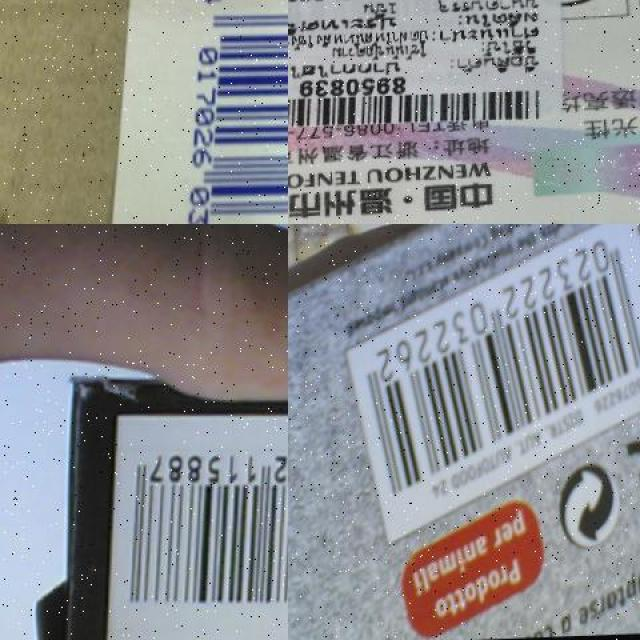Barcode: (337, 224, 640, 545), (107, 412, 288, 640), (165, 0, 288, 224), (288, 73, 553, 135)
